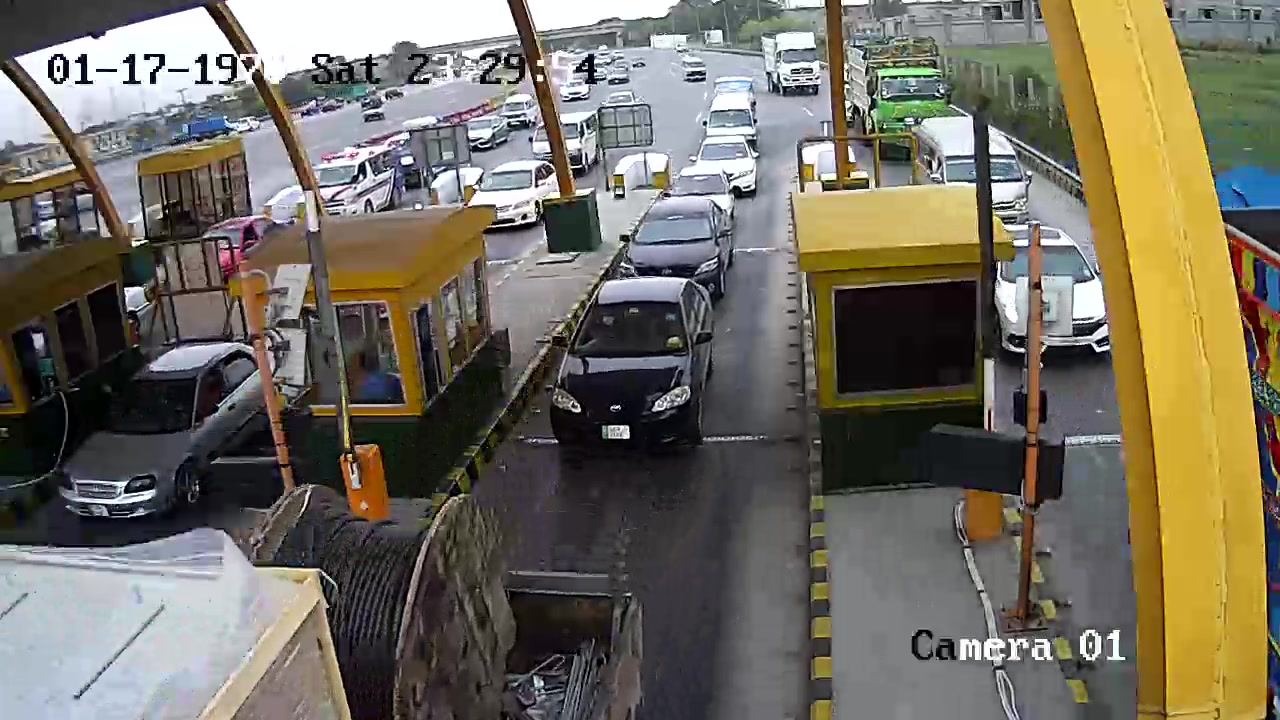F1: (536, 273, 732, 452)
